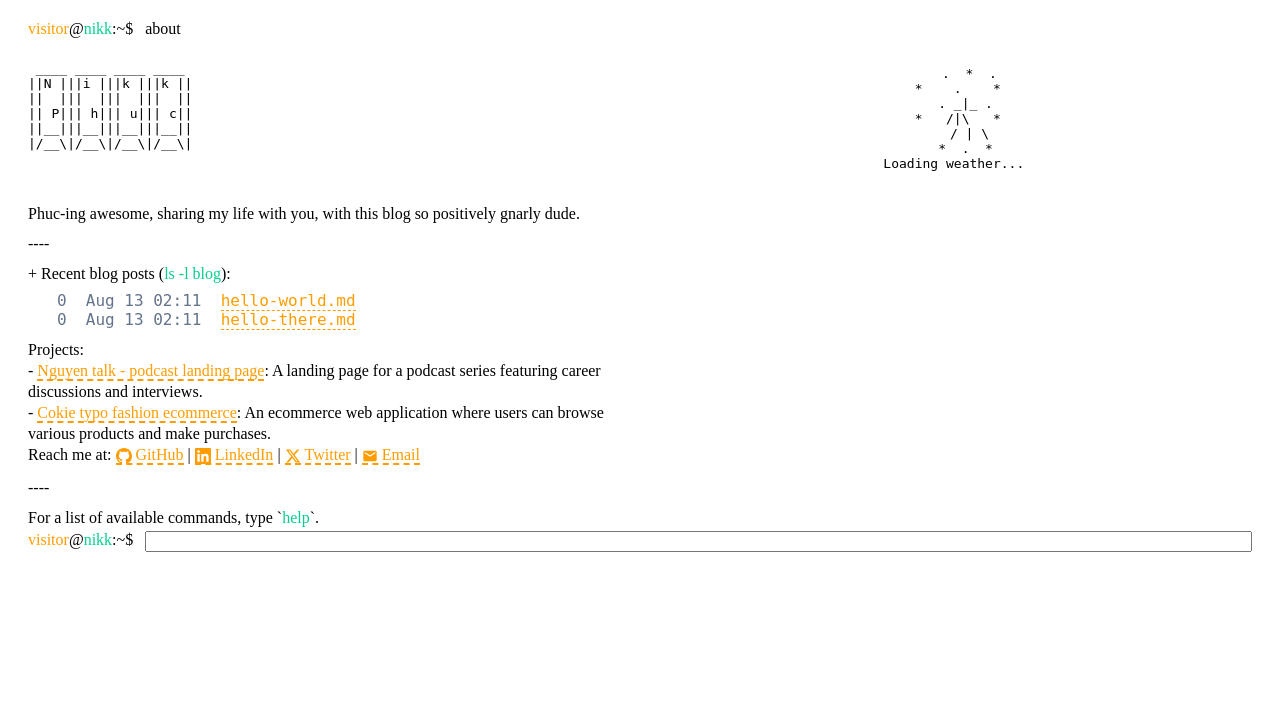
Test: Terminal component › autocomplete behavior › completes single matching file path for cat command
Note: 'docs/' has only one file, so it should complete
Type "cat docs/" into the field titled "terminal-input" at (699, 542), box [145,531,1252,552]
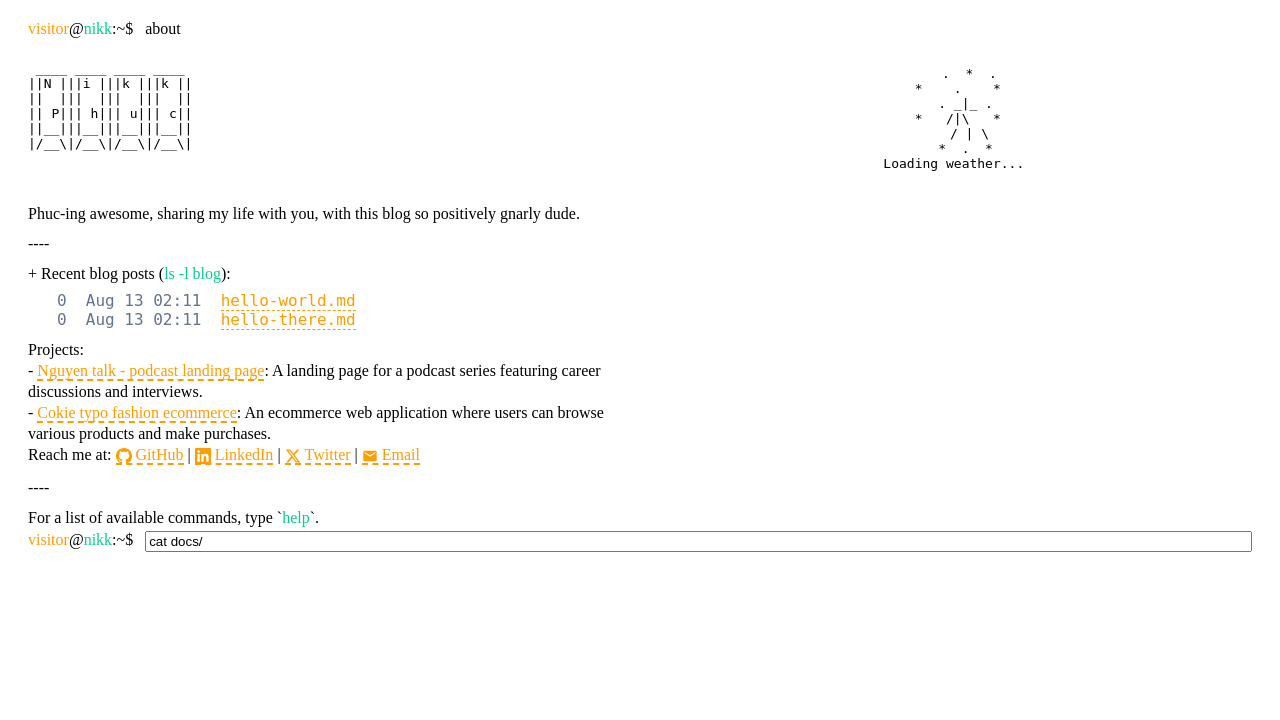
Press Tab in the field titled "terminal-input", box [145,531,1252,552]
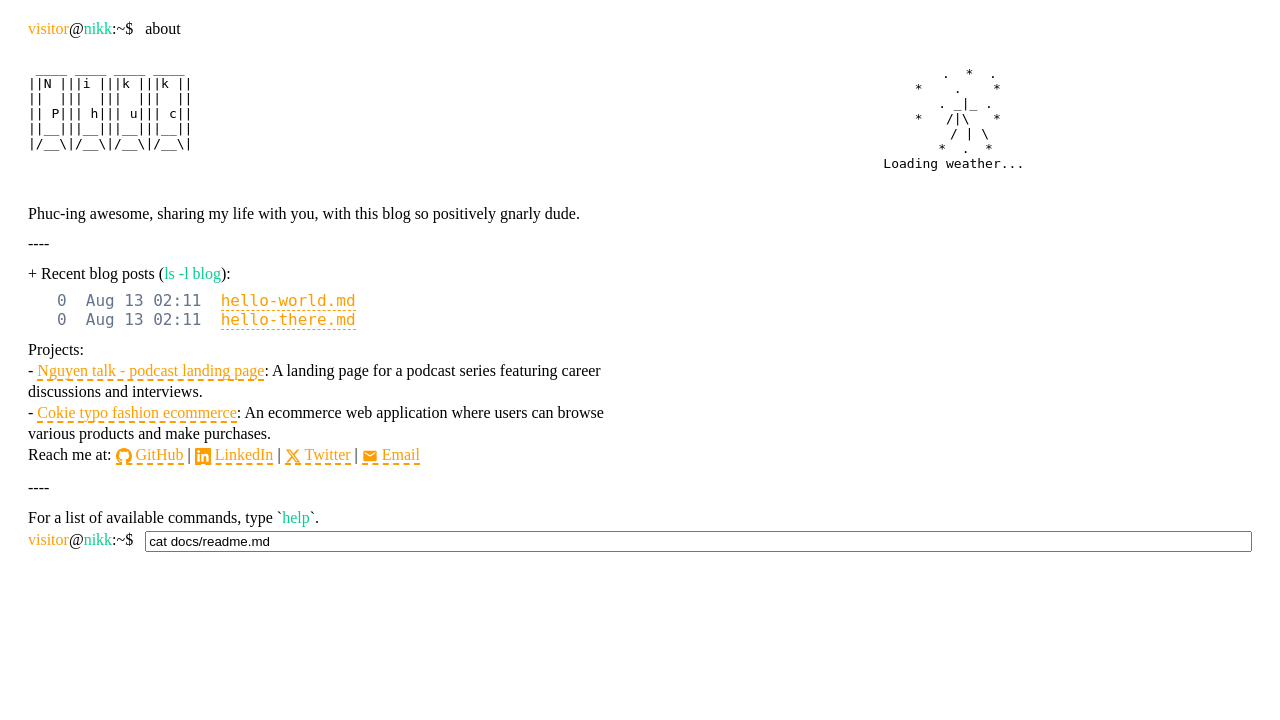
Check: the field titled "terminal-input" holds "cat docs/readme.md", box [145,531,1252,552]
